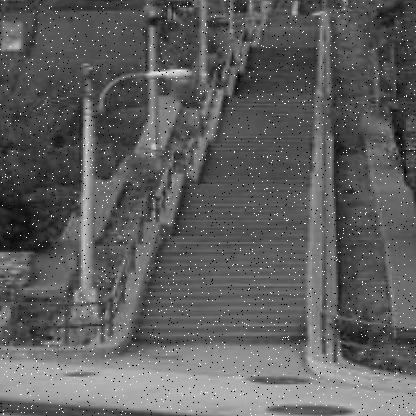stair_up: (117, 160, 329, 344)
